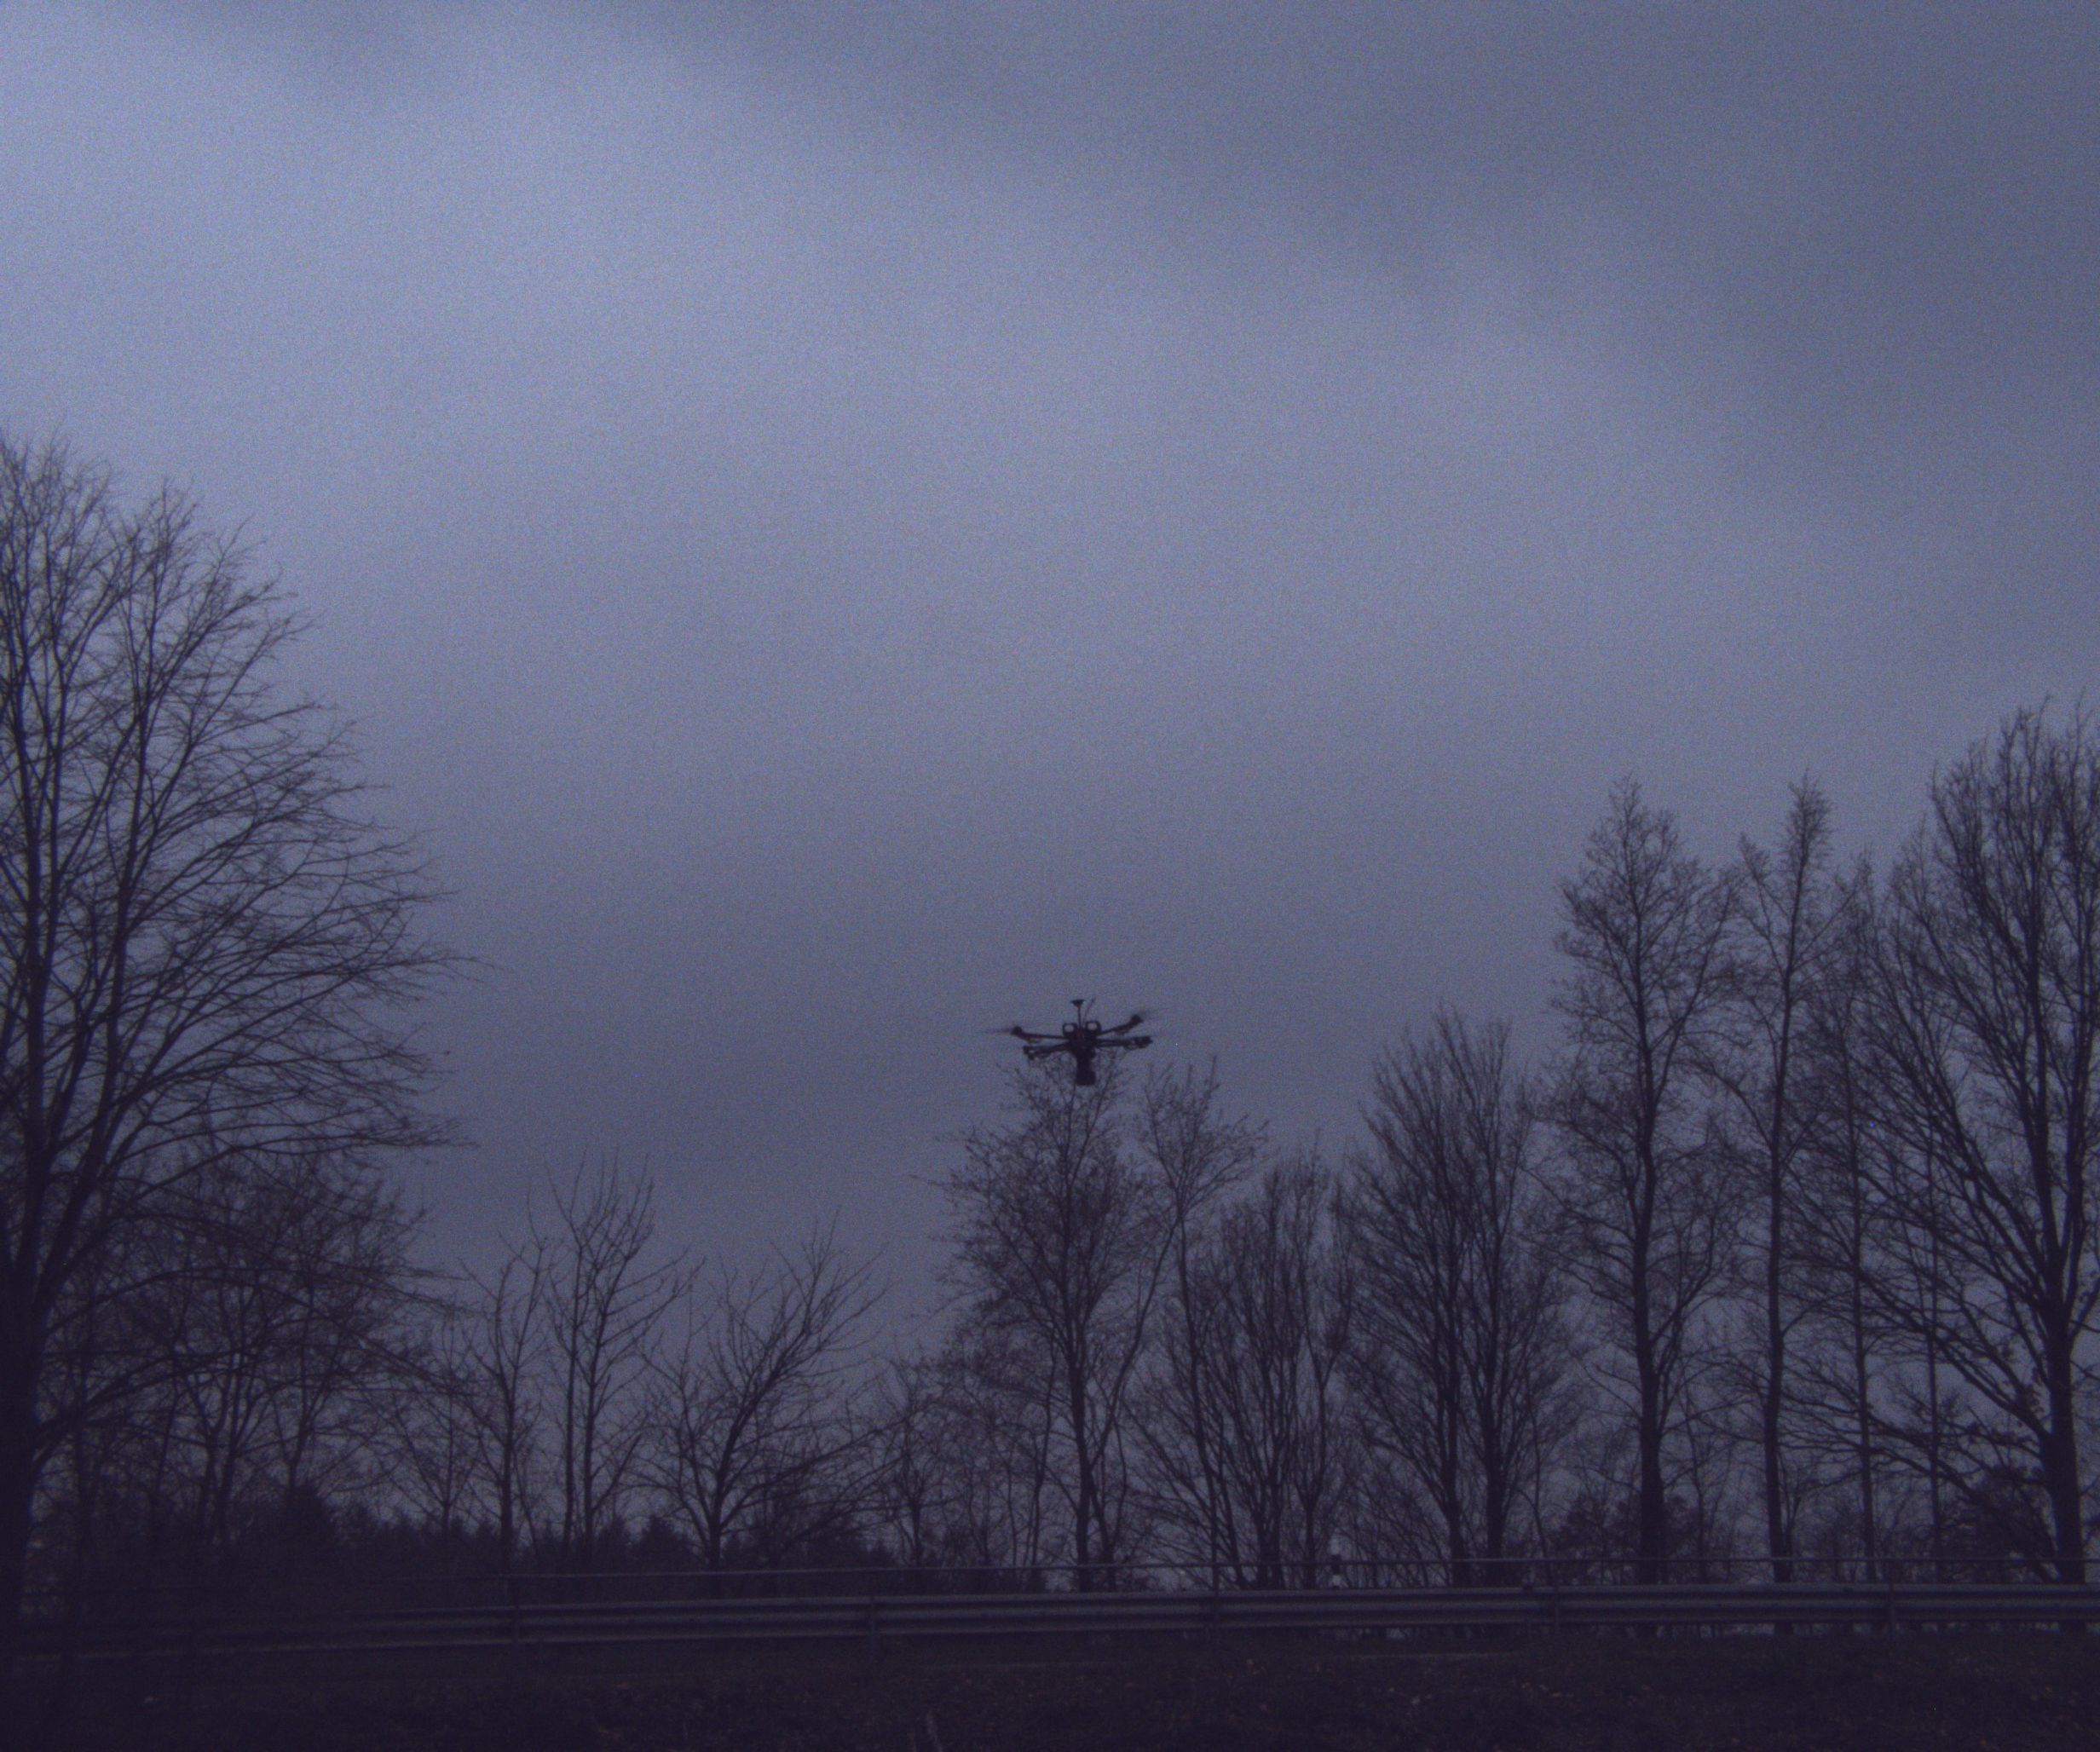Drohne: (968, 990, 1179, 1098)
